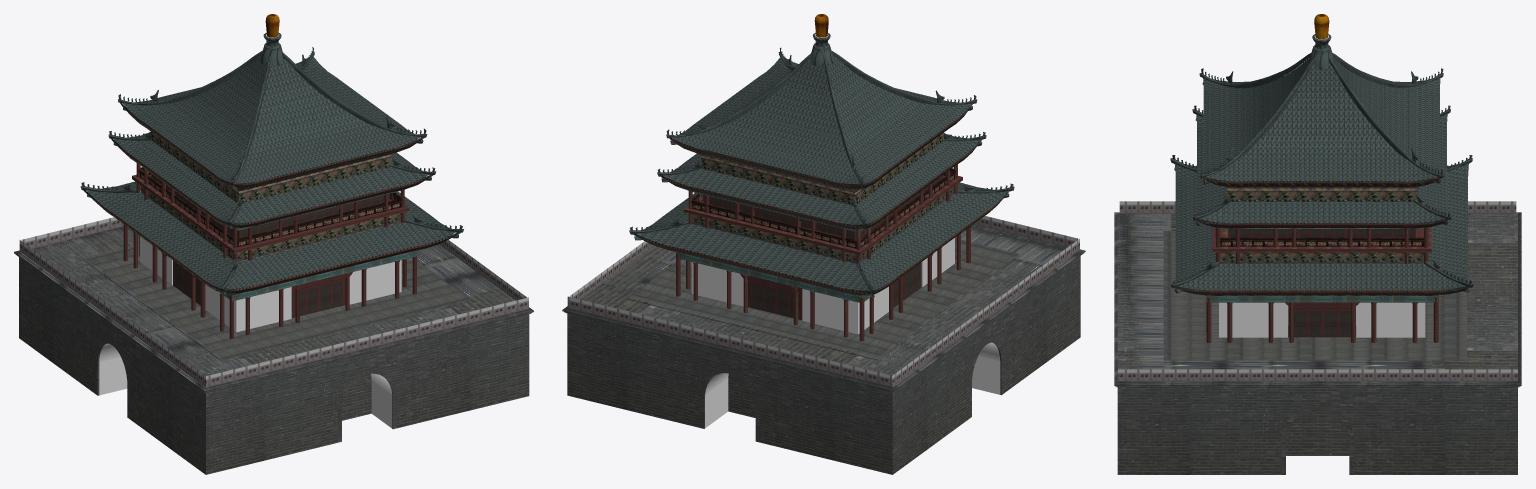
Rendered from tower.gltf.
3 views of the same model, side by side, from view 1: azimuth 30°, elevation 25°; view 2: azimuth 150°, elevation 25°; view 3: azimuth 270°, elevation 25° (orthographic). The views are drawn at different scales.
Visible parts, largest first — view 1: node_Object50_-19046; view 2: node_Object50_-19046; view 3: node_Object50_-19046.
Boxes of the visible parts, box(x1,y1,x2,y2) form: node_Object50_-19046: box(14, 14, 533, 474); node_Object50_-19046: box(562, 14, 1085, 474); node_Object50_-19046: box(1114, 14, 1521, 474).
Bounding box in the file's own units: 35.5 × 36.08 × 35.5.
15 materials, 14 textured.
